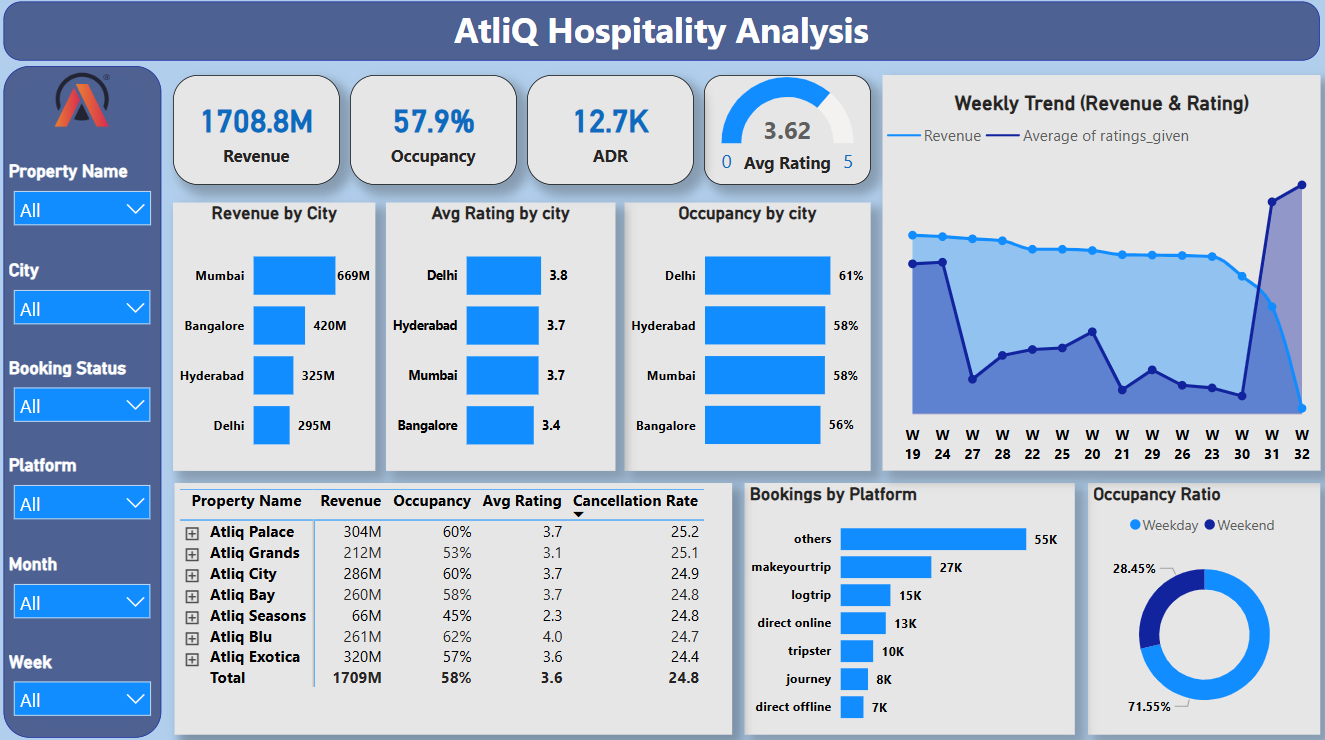

The dashboard page shown, as its layout file describes it:
{"tool":"powerbi","page":{"name":"Overall Analysis View","canvas":[1280,720],"ordinal":0},"visuals":[{"type":"shape","box":[7.8,7.8,1262.2,56.7],"z":0},{"type":"shape","box":[7.2,69,151,644.3],"z":1000},{"type":"card","fields":{"Values":["Measure.Revenue"]},"box":[169.7,77,160,105],"z":2000},{"type":"card","fields":{"Values":["Measure.Occupancy %"]},"box":[340.1,77,160,105],"z":3000},{"type":"gauge","title":"Avg Rating","fields":{"Y":["Measure.Average Rating"],"MaxValue":["Max(fact_bookings.ratings_given)1"]},"box":[678.8,77,160,105],"z":4000},{"type":"barChart","title":"Revenue by City","fields":{"Y":["Measure.Revenue"],"Category":["dim_hotels.city"]},"box":[169.7,199.9,194.1,257.4],"z":5000},{"type":"barChart","fields":{"Category":["dim_hotels.city"],"Y":["Measure.Occupancy %"]},"box":[602.6,199.9,235.9,257.4],"z":6000},{"type":"barChart","fields":{"Category":["dim_hotels.city"],"Y":["Measure.Average Rating"]},"box":[373.9,199.9,220,257.4],"z":7000},{"type":"slicer","title":"Property Name","fields":{"Values":["dim_hotels.property_name"]},"box":[7.2,159.6,151,80.5],"z":8000},{"type":"slicer","title":"City","fields":{"Values":["dim_hotels.city"]},"box":[7.4,254.3,150.6,79.8],"z":9000},{"type":"slicer","title":"Booking Status","fields":{"Values":["fact_bookings.booking_status"]},"box":[7.4,348.2,150.6,79.8],"z":10000},{"type":"slicer","title":"Platform","fields":{"Values":["fact_bookings.booking_platform"]},"box":[7.4,442.1,150.6,79.8],"z":11000},{"type":"slicer","title":"Week","fields":{"Values":["dim_date.week no"]},"box":[7.2,629.9,151,80.5],"z":12000},{"type":"slicer","title":"Month","fields":{"Values":["dim_date.date.Variation.Date Hierarchy.Month"]},"box":[7.4,536,150.6,79.8],"z":13000},{"type":"donutChart","title":"Occupancy Ratio","fields":{"Category":["dim_date.day type"],"Y":["Sum(fact_bookings.revenue_realized)"]},"box":[1046.9,468.8,222.9,241.6],"z":14000},{"type":"barChart","title":"Bookings by Platform","fields":{"Y":["CountNonNull(fact_bookings.booking_platform)"],"Category":["fact_bookings.booking_platform"]},"box":[718.2,468.9,316.4,241.6],"z":15000},{"type":"pivotTable","fields":{"Rows":["dim_hotels.property_name","dim_hotels.city"],"Values":["Measure.Revenue","Measure.Occupancy %","Measure.Average Rating","Measure.Cancellation Rate"]},"box":[171.1,468.9,535,241.6],"z":16000},{"type":"image","box":[41.4,69.4,82.7,63.5],"z":17000},{"type":"lineChart","title":"Weekly Trend (Revenue & Rating)","fields":{"Y":["Measure.Revenue"],"Category":["dim_date.week no"],"Y2":["Avg(fact_bookings.ratings_given)"]},"box":[849.9,77.7,419.9,379.7],"z":18000},{"type":"card","fields":{"Values":["Measure.ADR"]},"box":[509.4,77,160,105],"z":19000},{"type":"textbox","box":[678.8,145.2,159.6,37.4],"z":20000}]}

Visuals, with their boxes in screenshot pixels (x1, y1, x2, y2), scaled from the page's 1280x720 canvas onto the 1325x740 screenshot:
shape: {"left": 8, "top": 8, "right": 1315, "bottom": 66}
shape: {"left": 7, "top": 71, "right": 164, "bottom": 733}
card - Measure.Revenue: {"left": 176, "top": 79, "right": 341, "bottom": 187}
card - Measure.Occupancy %: {"left": 352, "top": 79, "right": 518, "bottom": 187}
"Avg Rating" gauge: {"left": 703, "top": 79, "right": 868, "bottom": 187}
"Revenue by City" barChart: {"left": 176, "top": 205, "right": 377, "bottom": 470}
barChart - dim_hotels.city x Measure.Occupancy %: {"left": 624, "top": 205, "right": 868, "bottom": 470}
barChart - dim_hotels.city x Measure.Average Rating: {"left": 387, "top": 205, "right": 615, "bottom": 470}
"Property Name" slicer: {"left": 7, "top": 164, "right": 164, "bottom": 247}
"City" slicer: {"left": 8, "top": 261, "right": 164, "bottom": 343}
"Booking Status" slicer: {"left": 8, "top": 358, "right": 164, "bottom": 440}
"Platform" slicer: {"left": 8, "top": 454, "right": 164, "bottom": 536}
"Week" slicer: {"left": 7, "top": 647, "right": 164, "bottom": 730}
"Month" slicer: {"left": 8, "top": 551, "right": 164, "bottom": 633}
"Occupancy Ratio" donutChart: {"left": 1084, "top": 482, "right": 1314, "bottom": 730}
"Bookings by Platform" barChart: {"left": 743, "top": 482, "right": 1071, "bottom": 730}
pivotTable - dim_hotels.property_name x dim_hotels.city: {"left": 177, "top": 482, "right": 731, "bottom": 730}
image: {"left": 43, "top": 71, "right": 128, "bottom": 137}
"Weekly Trend (Revenue & Rating)" lineChart: {"left": 880, "top": 80, "right": 1314, "bottom": 470}
card - Measure.ADR: {"left": 527, "top": 79, "right": 693, "bottom": 187}
textbox: {"left": 703, "top": 149, "right": 868, "bottom": 188}
